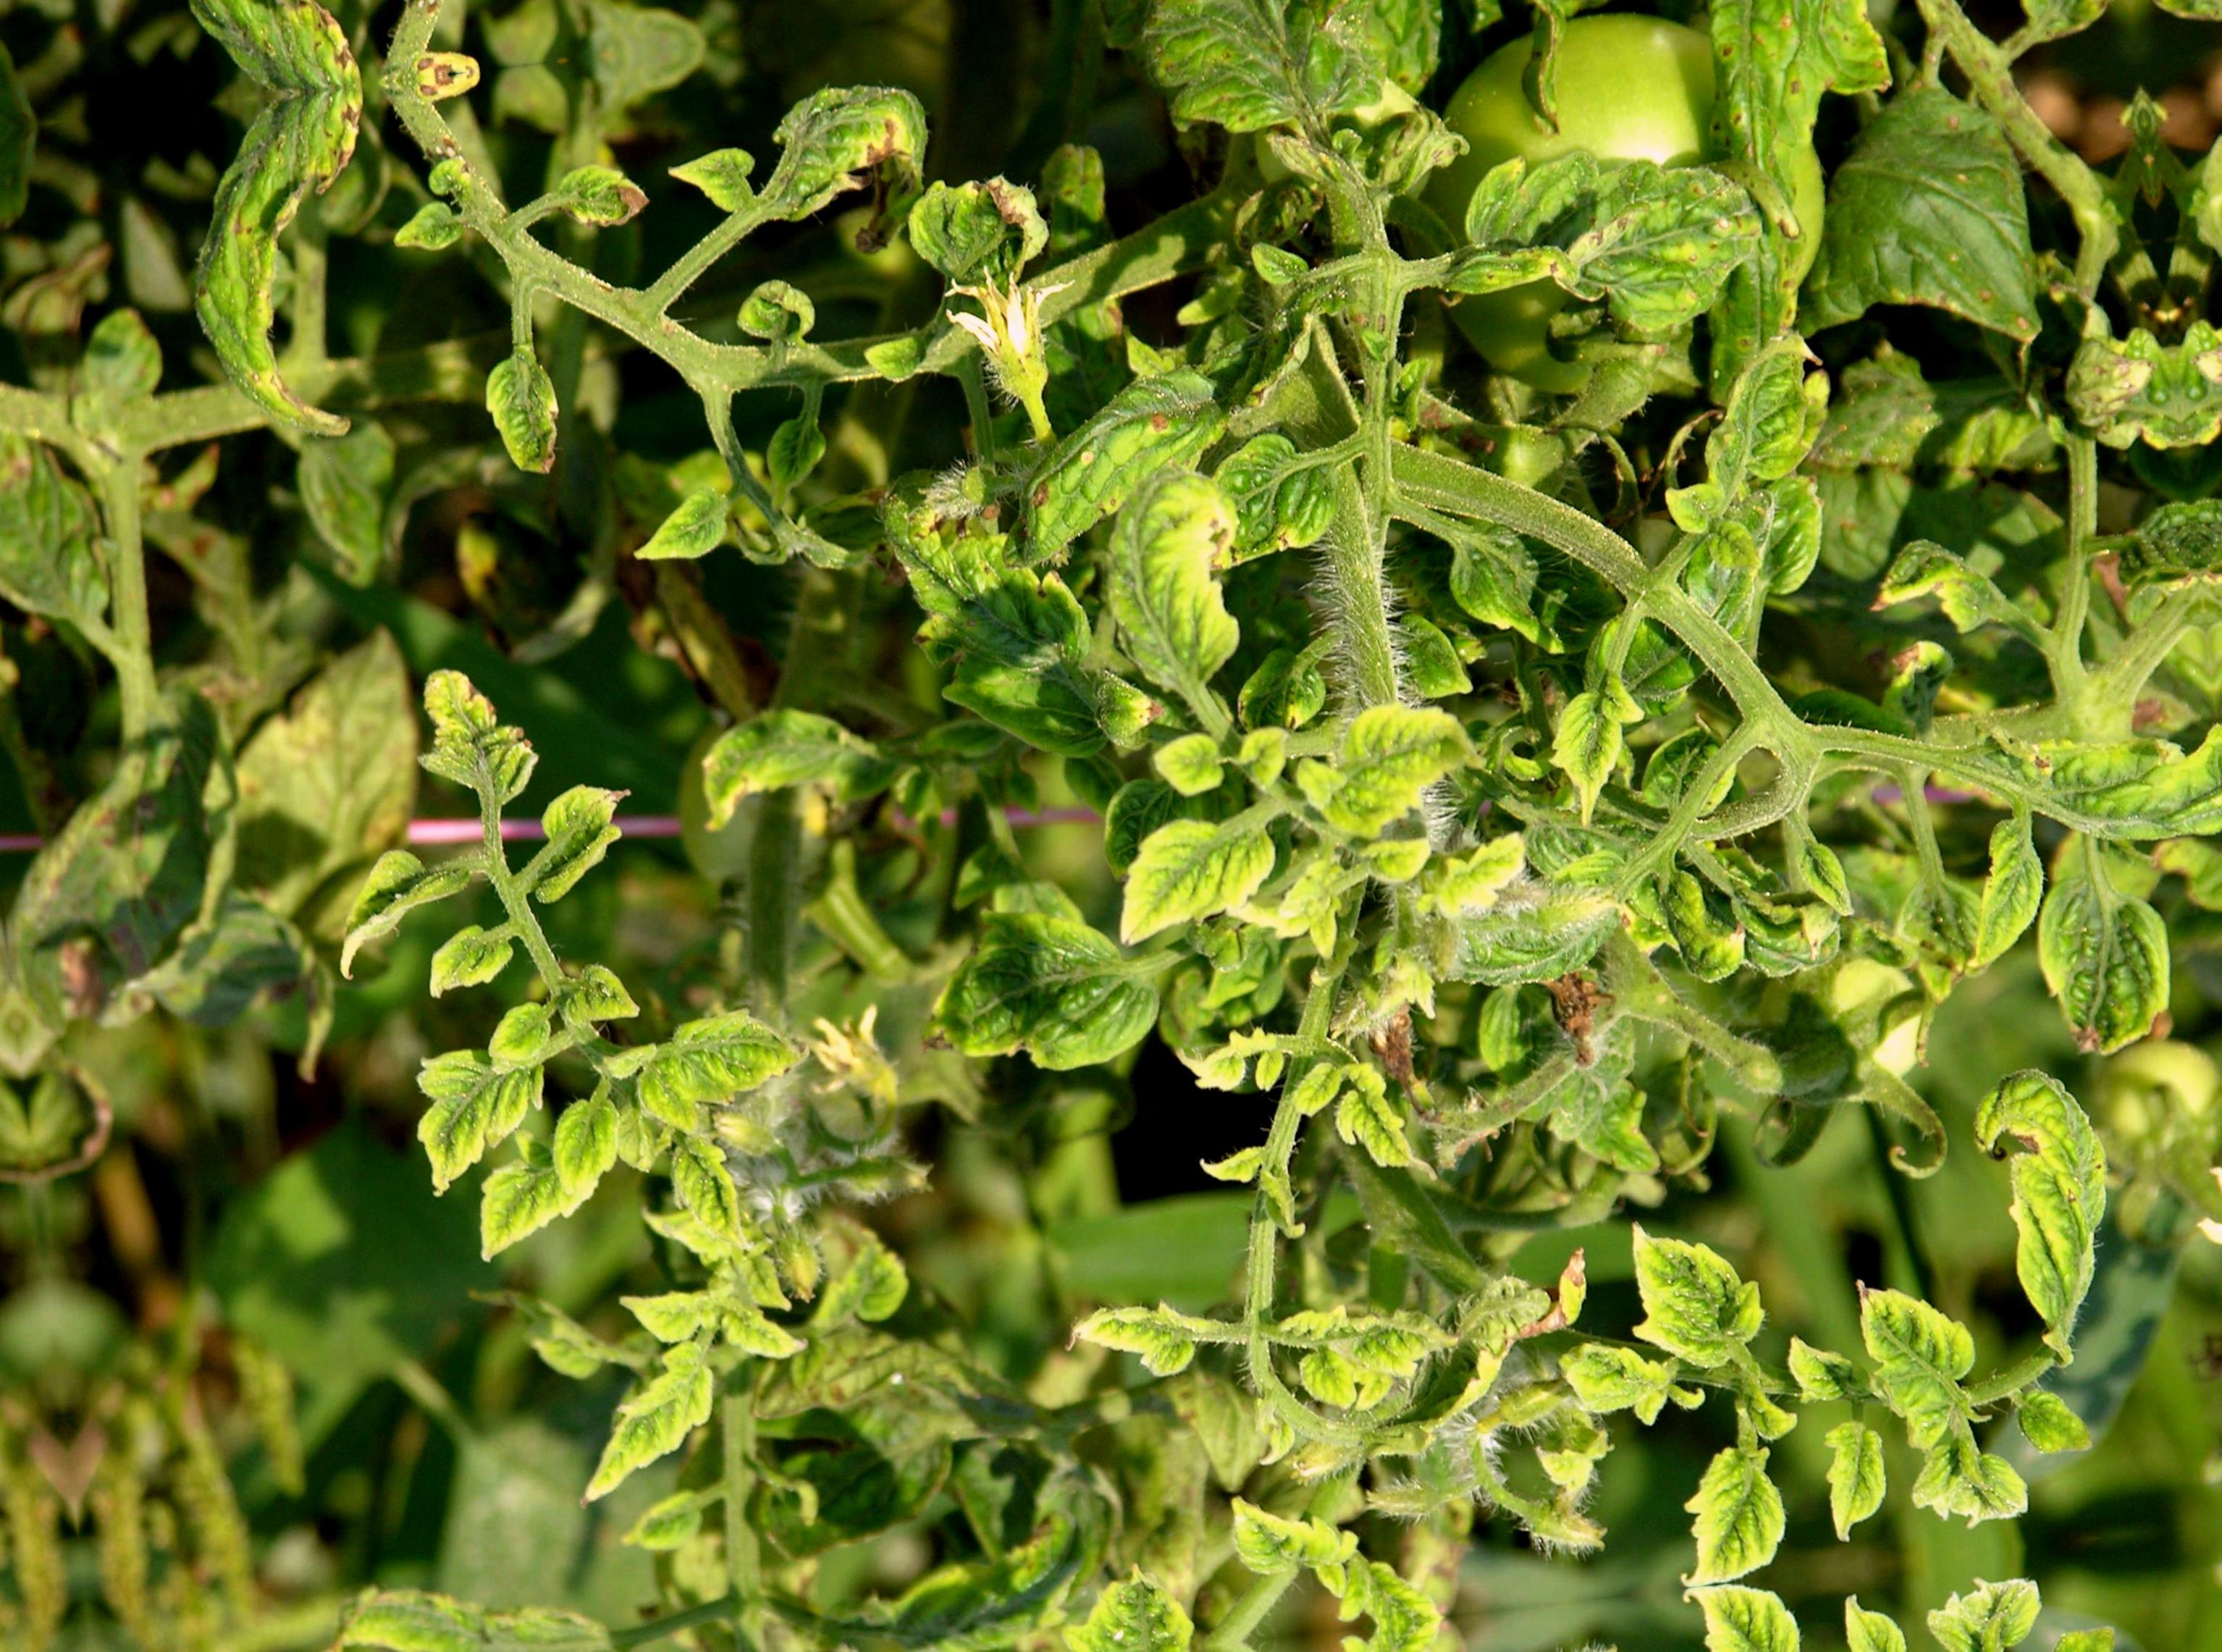Tomato leaf yellow virus: (1397, 90, 1868, 368), (106, 83, 411, 410), (866, 866, 1191, 1098), (1210, 670, 1515, 899), (976, 344, 1239, 590), (1658, 264, 1871, 564), (1960, 1041, 2137, 1352), (1693, 0, 1941, 210), (712, 54, 962, 262), (384, 954, 588, 1190), (1828, 1241, 2022, 1487), (1083, 784, 1302, 984), (1087, 458, 1264, 701), (1592, 1173, 1778, 1395), (2019, 835, 2187, 1064), (394, 633, 578, 823), (559, 1340, 757, 1513), (1243, 1300, 1462, 1430), (1654, 1425, 1826, 1590), (1043, 1256, 1217, 1397), (1021, 1544, 1203, 1652), (465, 1140, 613, 1262), (1213, 1461, 1340, 1590)
